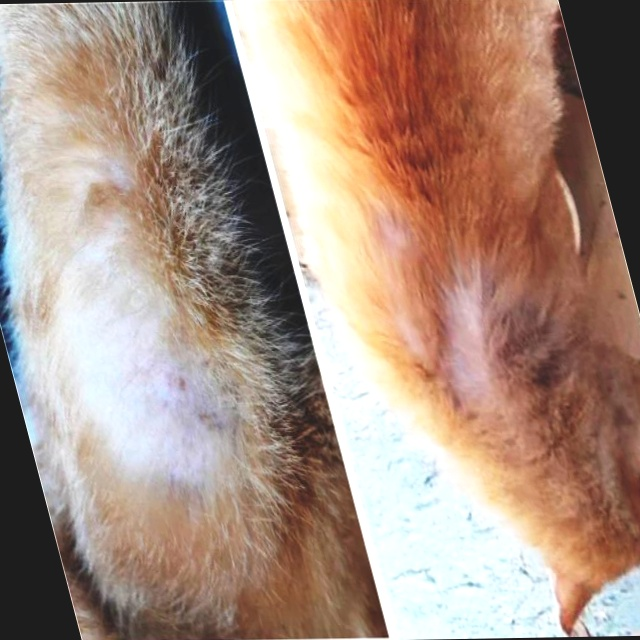hairloss: (58, 248, 224, 473), (373, 210, 428, 350), (424, 291, 493, 400)
